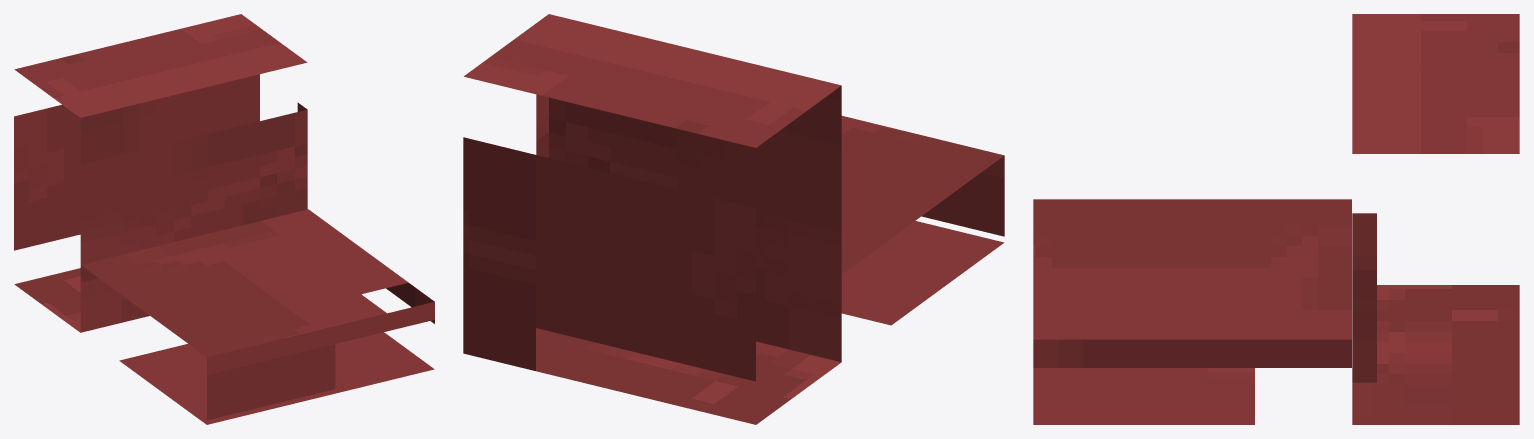
The model's file is section-5.obj.
3 views of the same model, side by side, from view 1: azimuth 30°, elevation 25°; view 2: azimuth 150°, elevation 25°; view 3: azimuth 270°, elevation 25° (orthographic). The views are drawn at different scales.
Size of the model in its own units: 0.8217 by 0.74 by 1.2.
